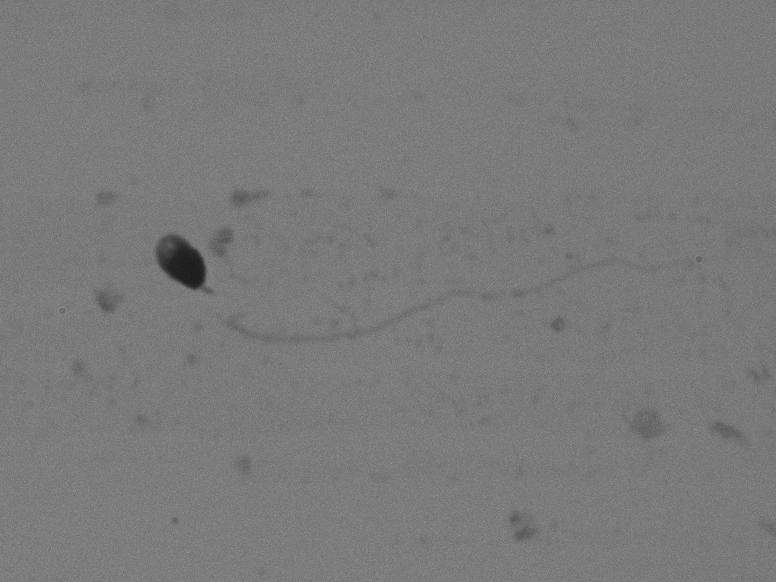Abnormal: (95, 148, 746, 471)
